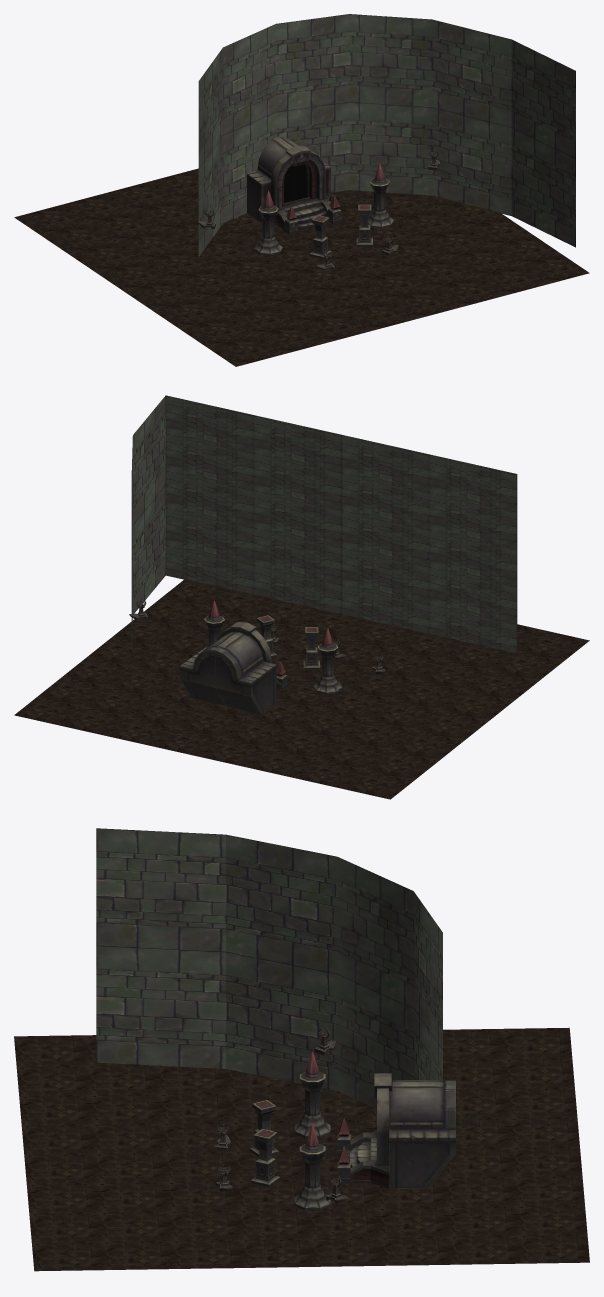
The model's file is bf_home_aveenafireborn.glb.
3 renders of one model, top to bottom at view 1: azimuth 30°, elevation 25°; view 2: azimuth 150°, elevation 25°; view 3: azimuth 270°, elevation 25°, orthographic. The views are drawn at different scales.
Visible parts, largest first — view 1: Floor, Wall_bake, Wall, mobile_entrance, mobile_tower_small (1), mobile_tower_small, mobile_pillar01_b (1), mobile_pillar01_b; view 2: Wall, Floor, mobile_entrance, mobile_tower_small (1), mobile_pillar01_b (1); view 3: Floor, Wall_bake, Wall, mobile_entrance, mobile_tower_small, mobile_tower_small (1), mobile_pillar01_b, mobile_pillar01_b (1).
Part boxes in pixels (<box>): Floor: <box>14,168,589,366</box>; Wall_bake: <box>198,14,511,256</box>; Wall: <box>511,39,575,247</box>; mobile_entrance: <box>247,137,341,234</box>; mobile_tower_small (1): <box>254,190,282,255</box>; mobile_tower_small: <box>368,163,394,228</box>; mobile_pillar01_b (1): <box>309,215,331,258</box>; mobile_pillar01_b: <box>356,204,372,246</box>; Wall: <box>133,395,517,653</box>; Floor: <box>14,579,589,799</box>; mobile_entrance: <box>180,622,287,714</box>; mobile_tower_small (1): <box>313,628,342,694</box>; mobile_pillar01_b (1): <box>303,627,320,669</box>; Floor: <box>14,1027,589,1271</box>; Wall_bake: <box>226,834,442,1108</box>; Wall: <box>96,828,225,1068</box>; mobile_entrance: <box>337,1073,455,1189</box>; mobile_tower_small: <box>294,1123,330,1210</box>; mobile_tower_small (1): <box>294,1051,330,1137</box>; mobile_pillar01_b: <box>251,1129,280,1187</box>; mobile_pillar01_b (1): <box>249,1100,278,1156</box>.
Bounding box in the file's own units: 32.42 × 17.75 × 31.07.
3 materials, 3 textured.
